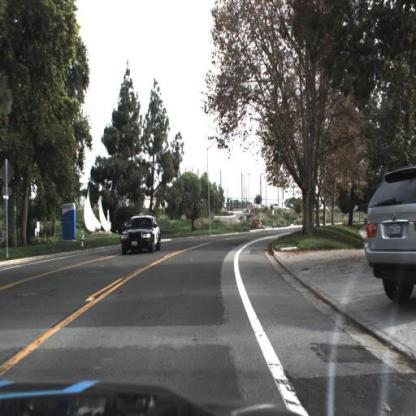car: (366, 164, 416, 304), (120, 212, 162, 255)
